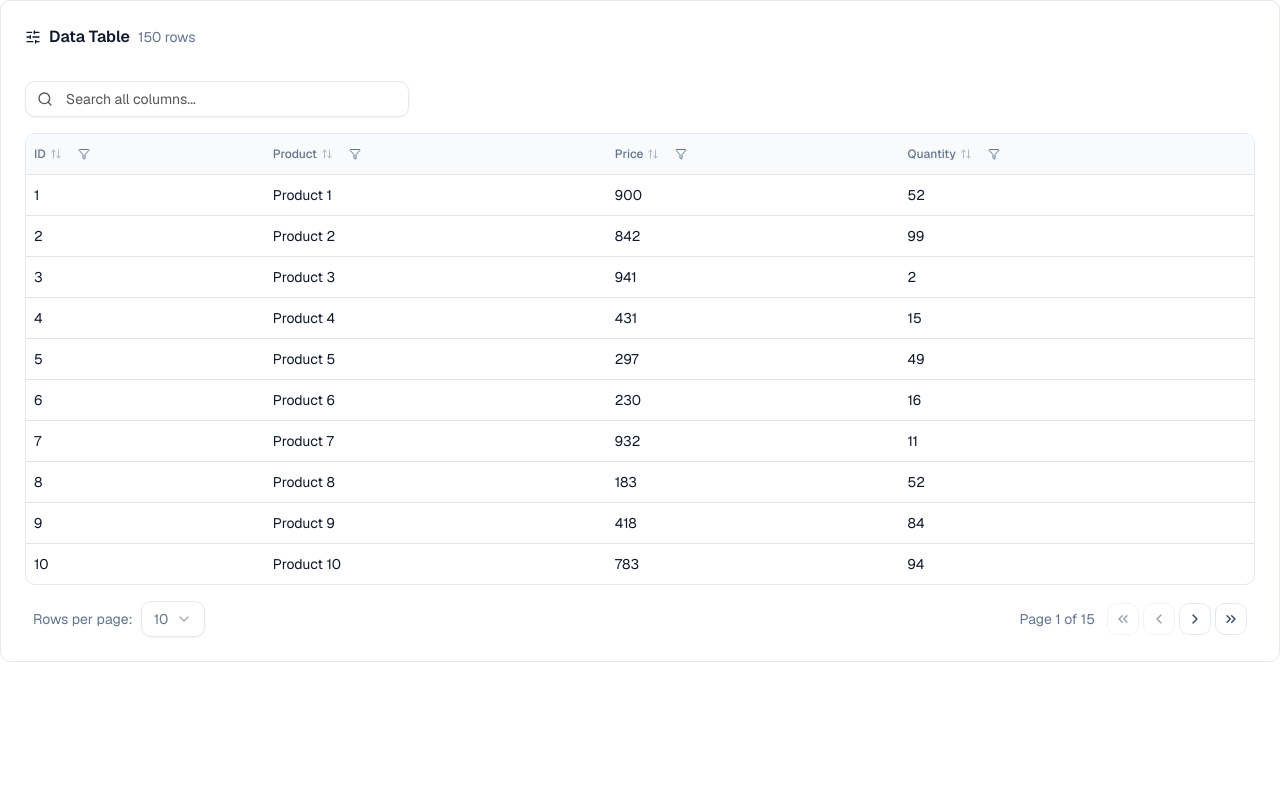
Test case: ReportDataTable Component › pagination (AC-23.6.4) › next button navigates to next page
The image size is (1280, 800).
What coordinates should you click on to do the following:
click the button with test id "next-page-button"
I would click on:
 (1195, 618)
Its box is [1179, 602, 1211, 634].
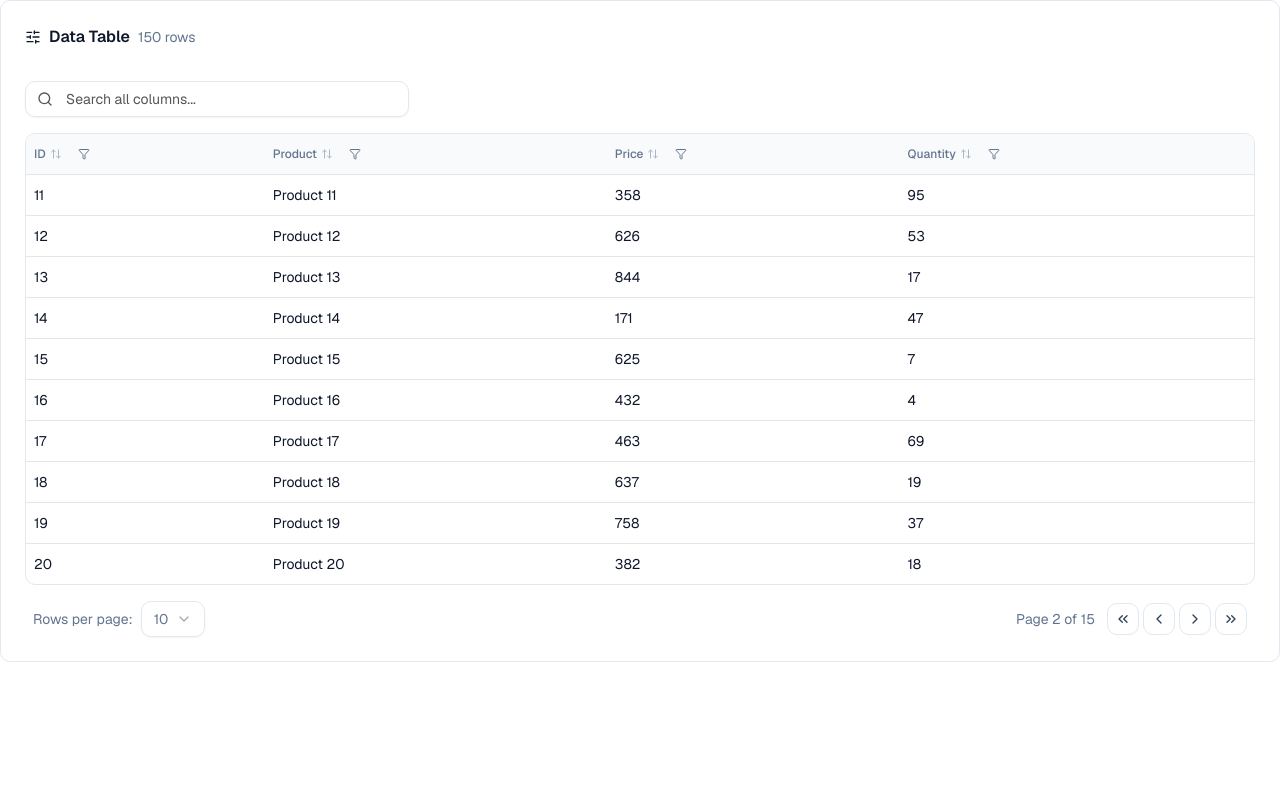
Now the text "Page 2 of 15" is shown, box [1016, 608, 1095, 628]
